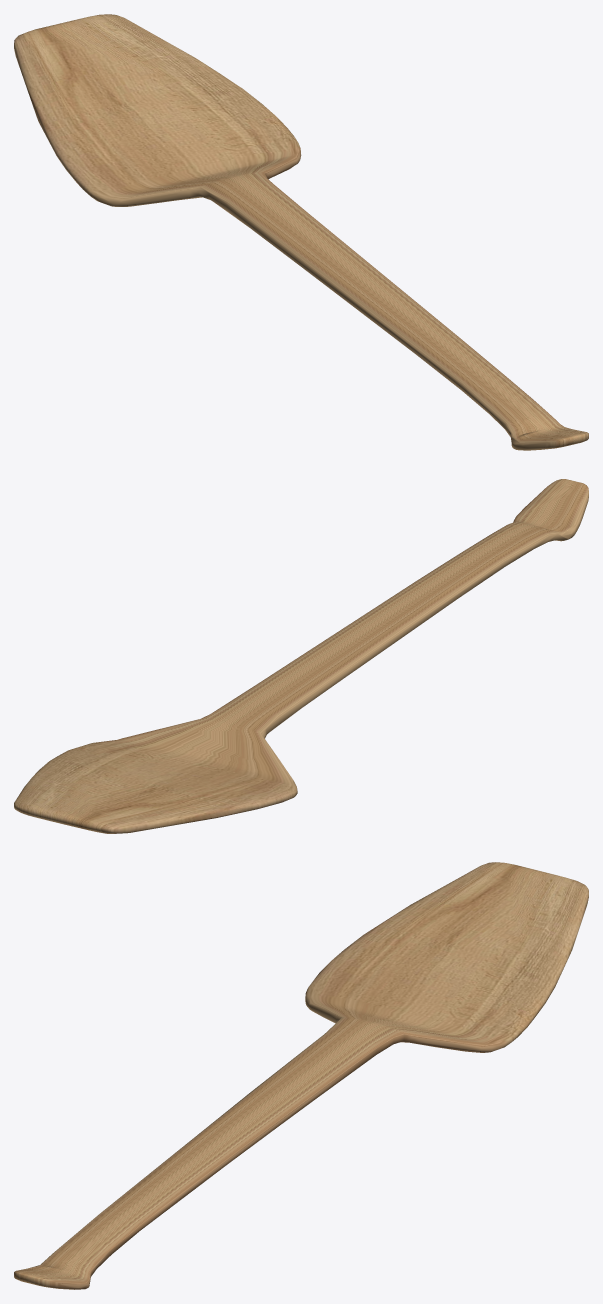
The model's file is Utensil 2.FBX.
3 renders of one model, top to bottom at view 1: azimuth 30°, elevation 25°; view 2: azimuth 150°, elevation 25°; view 3: azimuth 330°, elevation 25°, orthographic.
Parts seen in each view (by area): view 1: Utensil 2; view 2: Utensil 2; view 3: Utensil 2.
Part boxes in pixels (<box>): Utensil 2: <box>14,14,588,450</box>; Utensil 2: <box>14,479,588,833</box>; Utensil 2: <box>14,862,588,1289</box>.
Bounding box in the file's own units: 6.41 × 1.94 × 27.17.
